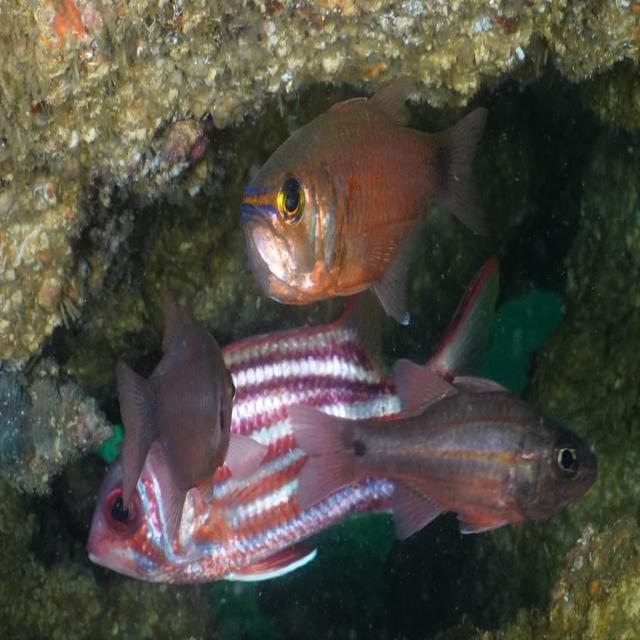Asker Baligi: (48, 306, 541, 596)
